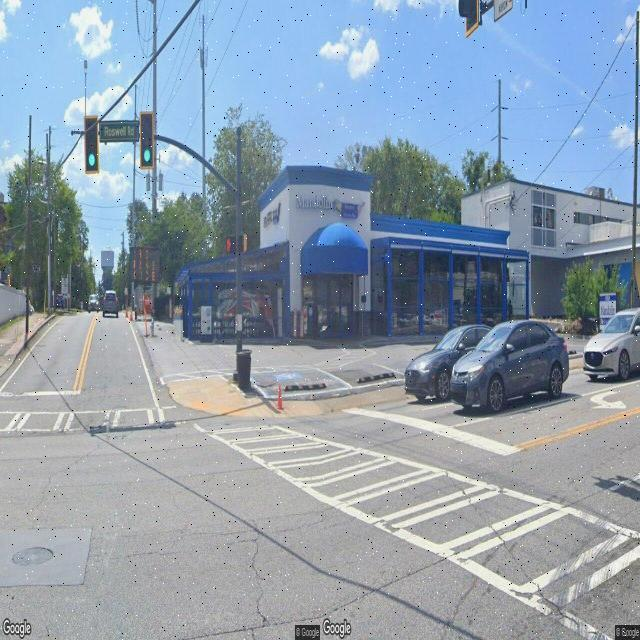trash_can: (236, 350, 252, 390)
